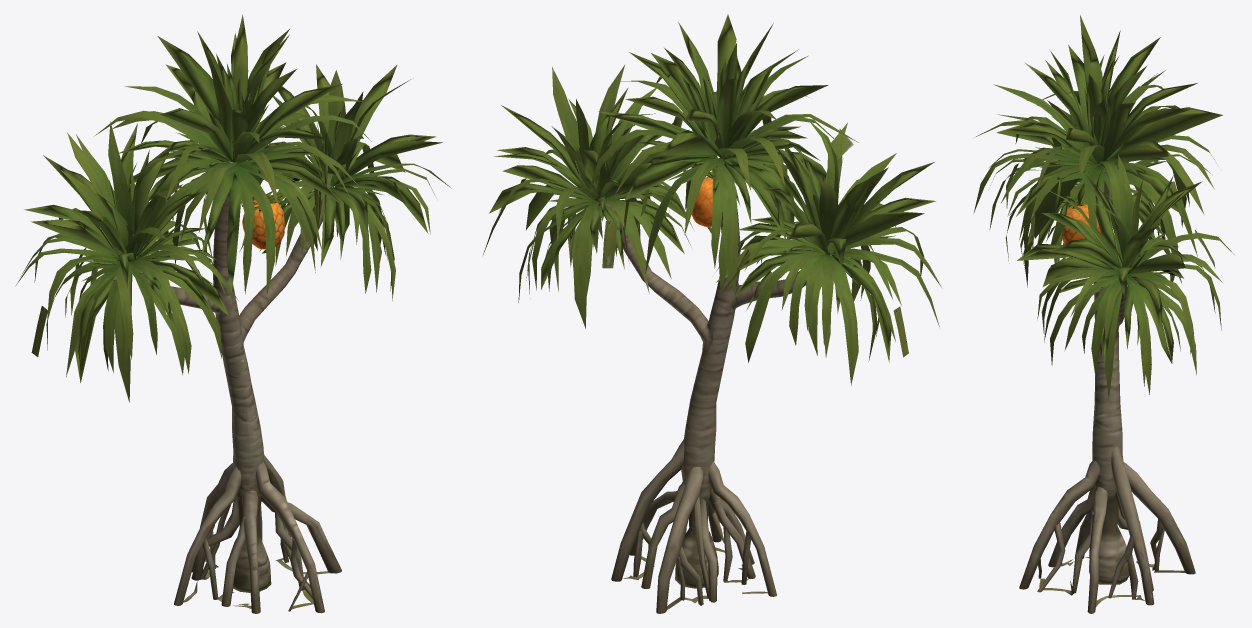
Rendered from pandan_a.glb.
The picture shows the model from 3 angles, left to right: view 1: azimuth 30°, elevation 25°; view 2: azimuth 150°, elevation 25°; view 3: azimuth 270°, elevation 25°; orthographic projection. The views are drawn at different scales.
Parts seen in each view (by area): view 1: geometry_0; view 2: geometry_0; view 3: geometry_0.
Boxes of the visible parts, x1=… form: geometry_0: x1=15, y1=14, x2=451, y2=613; geometry_0: x1=483, y1=14, x2=942, y2=613; geometry_0: x1=973, y1=15, x2=1234, y2=613.
Size of the model in its own units: 0.7368 by 0.9517 by 0.4302.
1 material, 1 textured.
